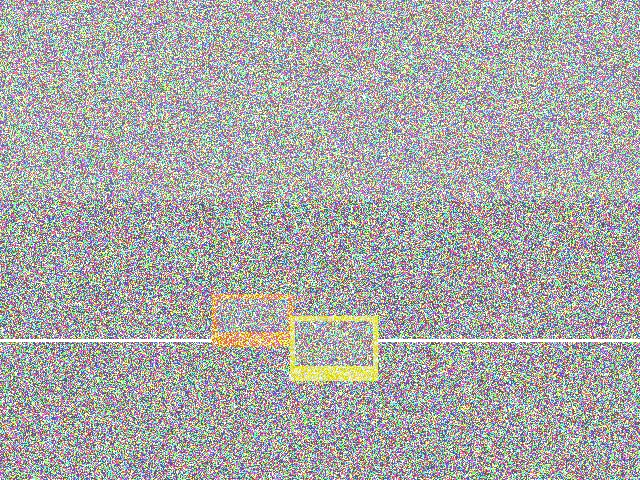bus: (491, 114, 633, 212)
car: (20, 292, 195, 384), (55, 125, 167, 258)
